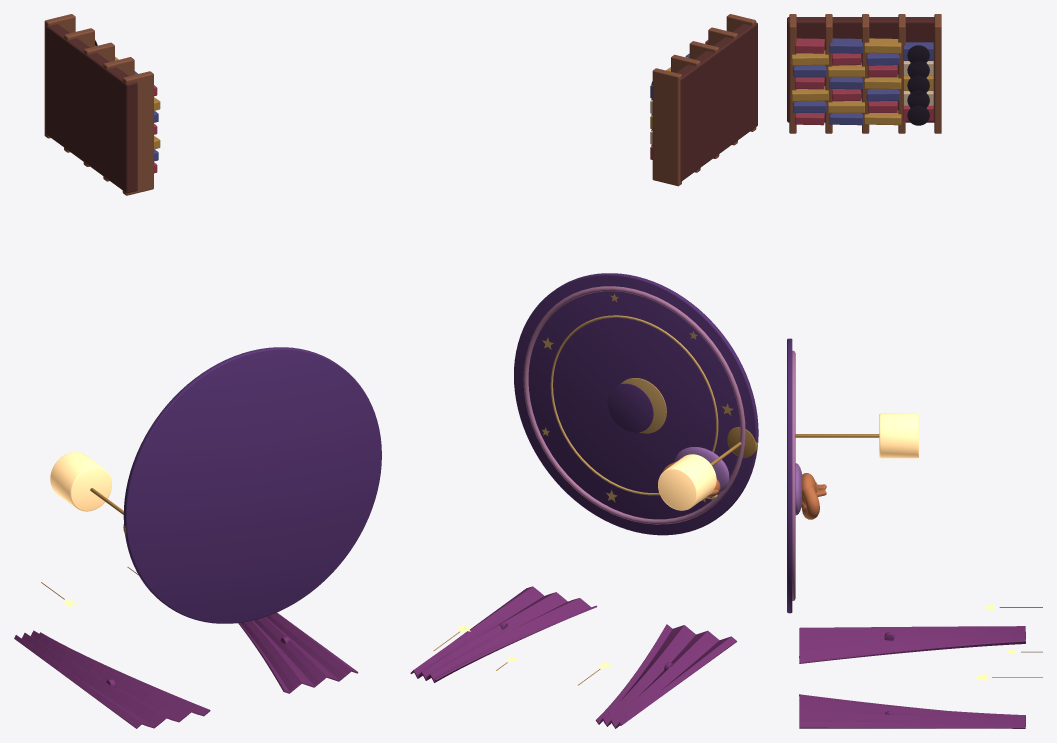
File: drum-corner.glb
The picture shows the model from 3 angles, left to right: view 1: azimuth 30°, elevation 25°; view 2: azimuth 150°, elevation 25°; view 3: azimuth 270°, elevation 25°; orthographic projection. The views are drawn at different scales.
Parts seen in each view (by area): view 1: Batched_Rug_Deep_Purple, Music_Shelf_Back, Batched_Plum_Curtain_Velvet, Batched_Walnut_Wood, Lamp_Shade; view 2: Batched_Rug_Deep_Purple, Batched_Plum_Curtain_Velvet, Music_Shelf_Back, Batched_Walnut_Wood, Rug_Outer_Border, Batched_Rug_Muted_Gold, Lamp_Shade, Batched_Aged_Brass, Fox_Cushion; view 3: Batched_Plum_Curtain_Velvet, Batched_Walnut_Wood, Batched_Book_Ochre, Music_Shelf_Back, Batched_Book_Indigo, Batched_Book_Burgundy, Lamp_Shade, Batched_Rug_Deep_Purple, Batched_Vinyl_Black, Rug_Outer_Border, Batched_Fox_Russet_Fur, Batched_Aged_Brass.
Boxes of the visible parts, x1,y1,x2,y2 form: Batched_Rug_Deep_Purple: [123, 347, 381, 623]; Music_Shelf_Back: [45, 24, 137, 193]; Batched_Plum_Curtain_Velvet: [14, 612, 358, 728]; Batched_Walnut_Wood: [44, 14, 153, 195]; Lamp_Shade: [50, 452, 111, 511]; Batched_Rug_Deep_Purple: [514, 273, 758, 535]; Batched_Plum_Curtain_Velvet: [410, 586, 736, 728]; Music_Shelf_Back: [676, 22, 757, 181]; Batched_Walnut_Wood: [652, 14, 756, 186]; Rug_Outer_Border: [523, 286, 745, 524]; Batched_Rug_Muted_Gold: [542, 293, 733, 502]; Lamp_Shade: [658, 454, 716, 510]; Batched_Aged_Brass: [433, 427, 757, 685]; Fox_Cushion: [674, 447, 729, 492]; Batched_Plum_Curtain_Velvet: [799, 626, 1025, 728]; Batched_Walnut_Wood: [789, 14, 941, 133]; Batched_Book_Ochre: [791, 38, 933, 125]; Music_Shelf_Back: [787, 17, 934, 122]; Batched_Book_Indigo: [793, 38, 933, 125]; Batched_Book_Burgundy: [795, 38, 933, 125]; Lamp_Shade: [879, 413, 918, 458]; Batched_Rug_Deep_Purple: [787, 338, 792, 613]; Batched_Vinyl_Black: [907, 45, 929, 125]; Rug_Outer_Border: [792, 350, 795, 600]; Batched_Fox_Russet_Fur: [801, 473, 826, 519]; Batched_Aged_Brass: [795, 434, 1042, 677].
Bounding box in the file's own units: 5.76 × 13.88 × 5.25.
